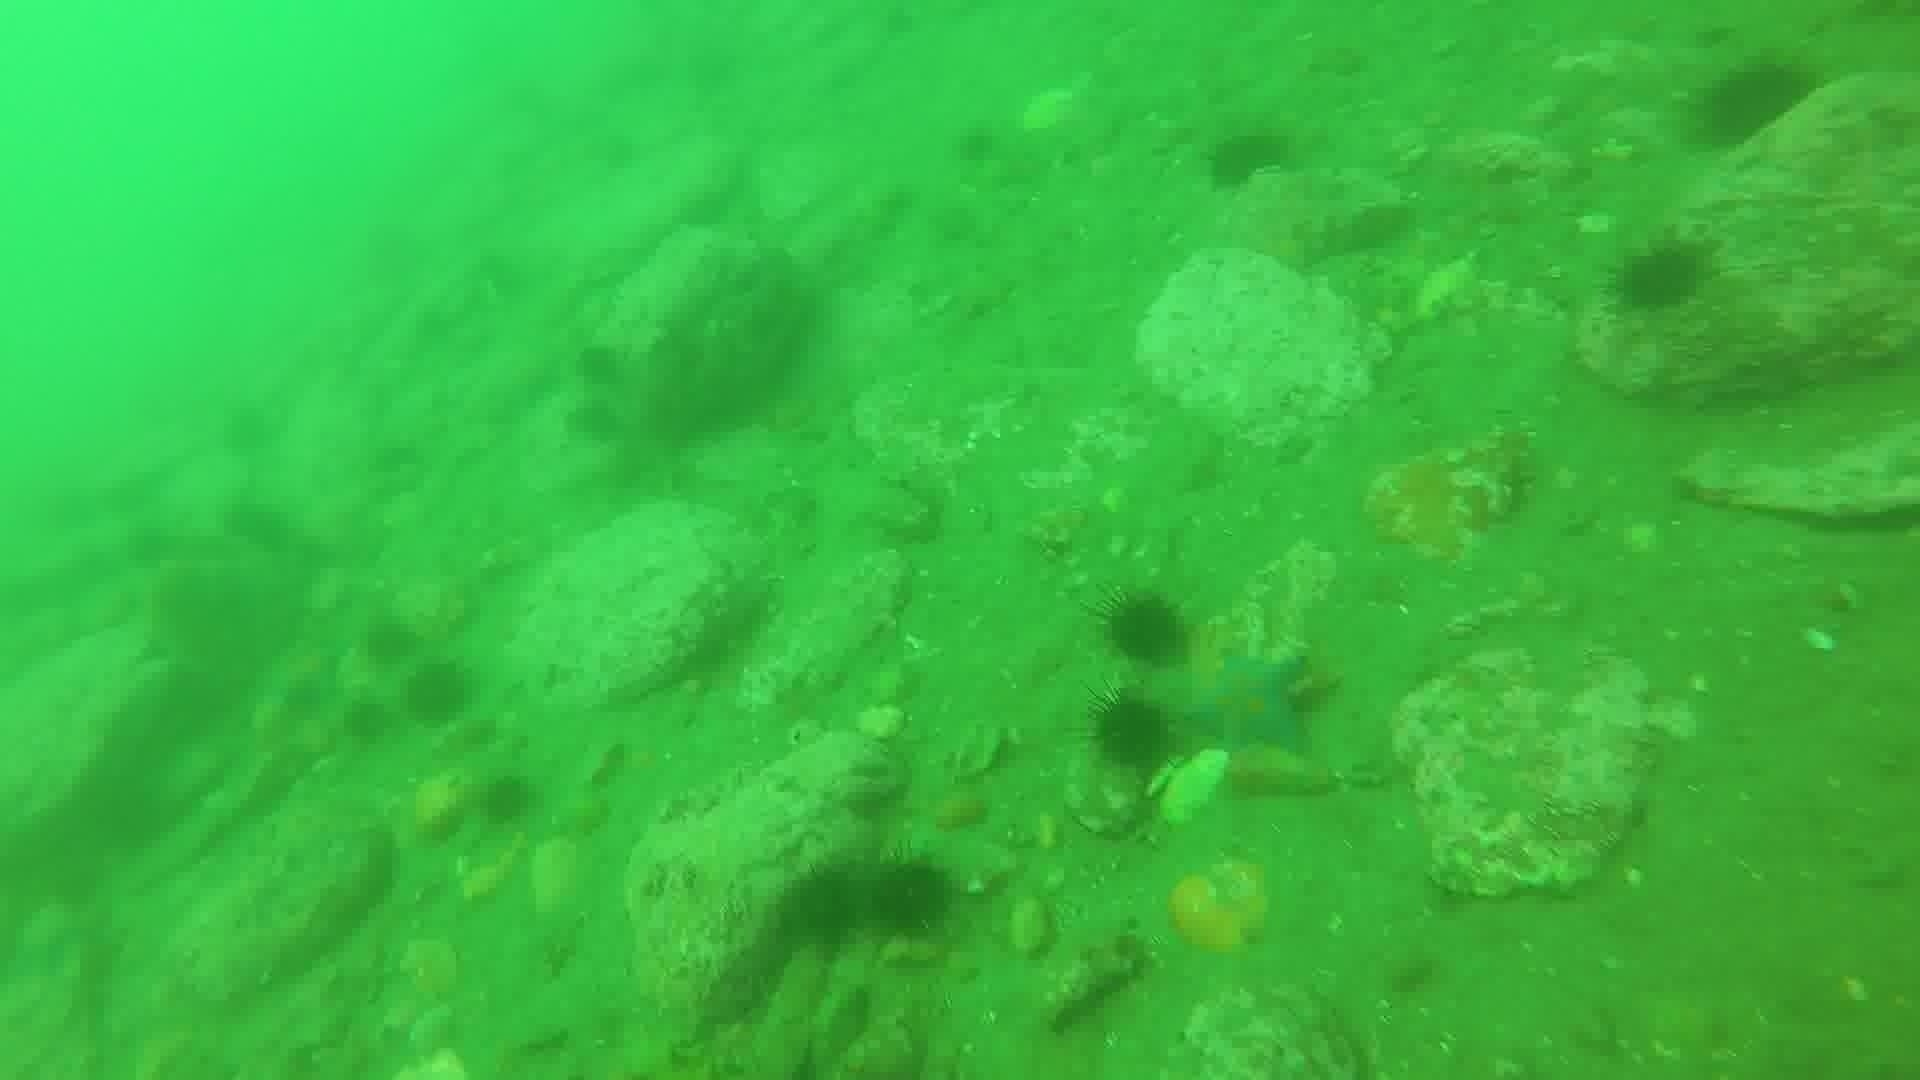echinus: (1688, 53, 1822, 154), (775, 858, 870, 953), (1610, 235, 1716, 318), (862, 853, 959, 944), (1087, 690, 1178, 777), (1098, 589, 1193, 670), (1201, 124, 1294, 195), (400, 657, 476, 729), (473, 770, 541, 831), (357, 612, 421, 673), (338, 694, 396, 750)
starfish: (1184, 644, 1321, 764), (248, 630, 351, 733)
